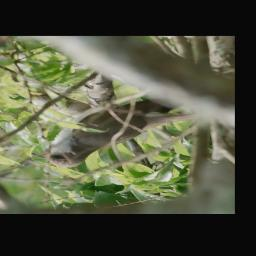Cuckoo: (32, 96, 201, 169)
